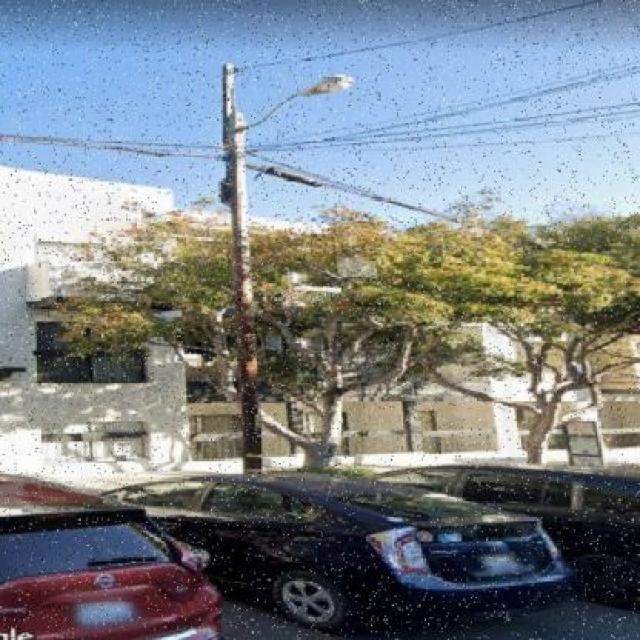pole: (223, 62, 265, 471)
wire: (245, 162, 510, 239), (0, 138, 230, 161)
